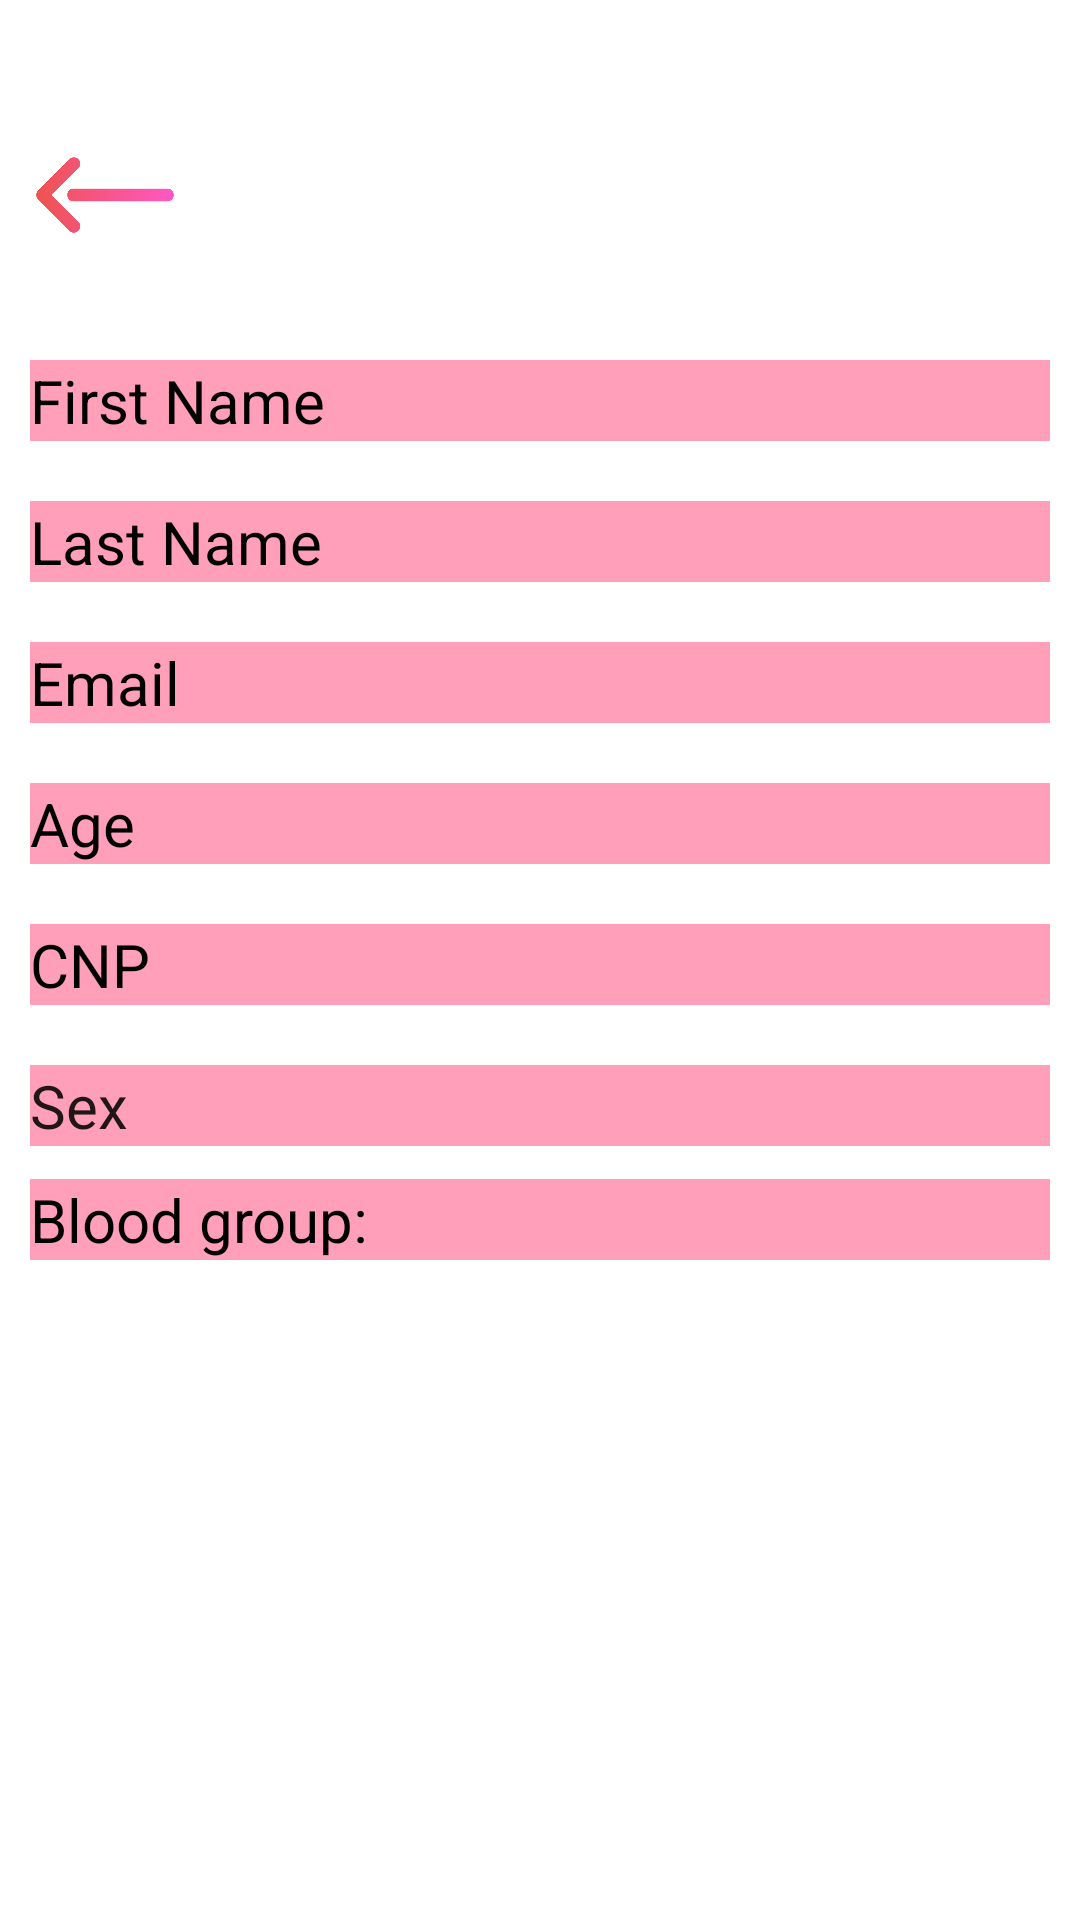

Icons on this 1080w x 1920h Android screen, each with its box as [left=x1, top=y1, right=x2, bottom=y2]:
back: [left=36, top=157, right=174, bottom=233]
